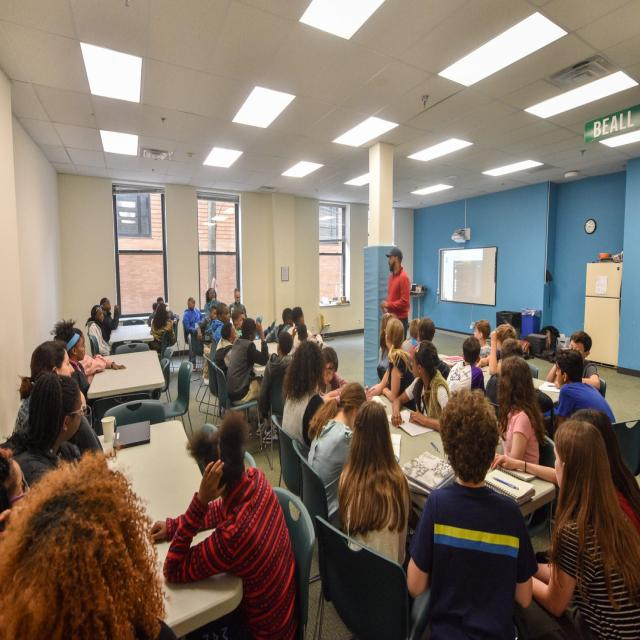body: (142, 406, 302, 639), (0, 434, 179, 639), (405, 380, 540, 640), (509, 417, 640, 640), (500, 407, 639, 561), (337, 399, 412, 569), (280, 340, 342, 499), (12, 368, 89, 489), (309, 381, 367, 531), (11, 338, 94, 438), (226, 315, 280, 446), (492, 355, 545, 472), (391, 340, 451, 433), (553, 346, 617, 429), (363, 316, 418, 412), (49, 318, 94, 408), (258, 330, 295, 438), (68, 327, 127, 385), (546, 329, 601, 391), (408, 317, 454, 382), (380, 246, 410, 343), (446, 335, 487, 401), (475, 322, 517, 376), (284, 306, 328, 353), (314, 346, 349, 405), (194, 304, 218, 386), (181, 296, 206, 374), (84, 304, 116, 358), (147, 302, 177, 354), (214, 321, 239, 375), (376, 312, 397, 369), (146, 295, 181, 329), (408, 317, 436, 359), (264, 307, 294, 344), (99, 296, 120, 343), (210, 301, 232, 345), (227, 286, 248, 321), (474, 319, 492, 358), (500, 338, 524, 362), (204, 288, 221, 316), (230, 309, 246, 338)
